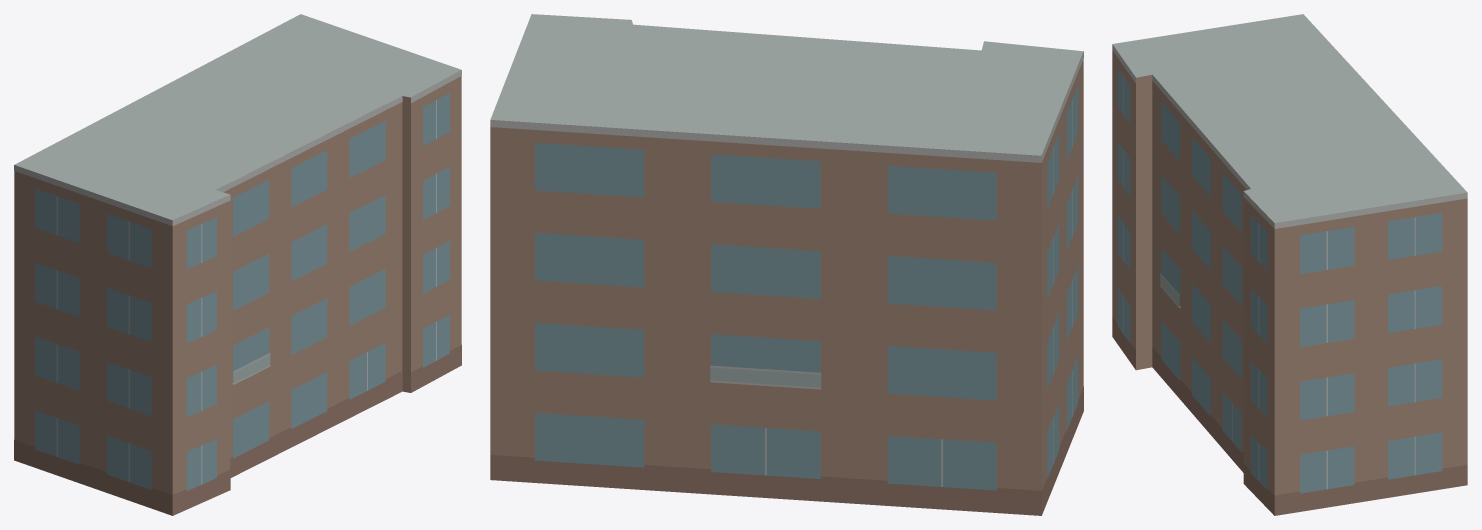
File: survey-upis-32695564.glb
The picture shows the model from 3 angles, left to right: view 1: azimuth 30°, elevation 25°; view 2: azimuth 150°, elevation 25°; view 3: azimuth 270°, elevation 25°; orthographic projection. The views are drawn at different scales.
Visible parts, largest first — view 1: survey-upis-32695564.tmp; view 2: survey-upis-32695564.tmp; view 3: survey-upis-32695564.tmp.
Part boxes in pixels (x1=…): survey-upis-32695564.tmp: x1=14, y1=14, x2=461, y2=515; survey-upis-32695564.tmp: x1=490, y1=14, x2=1083, y2=515; survey-upis-32695564.tmp: x1=1112, y1=14, x2=1467, y2=515.
Size of the model in its own units: 18.72 by 12.2 by 13.44.
